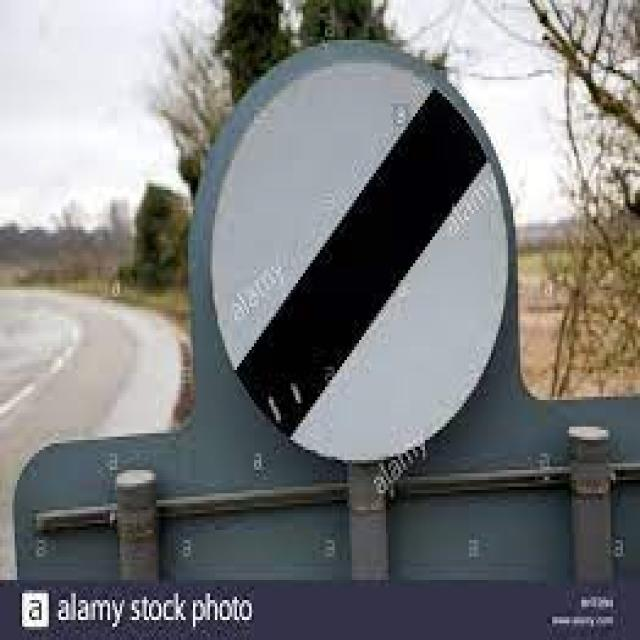restriction ends: (205, 56, 513, 469)
